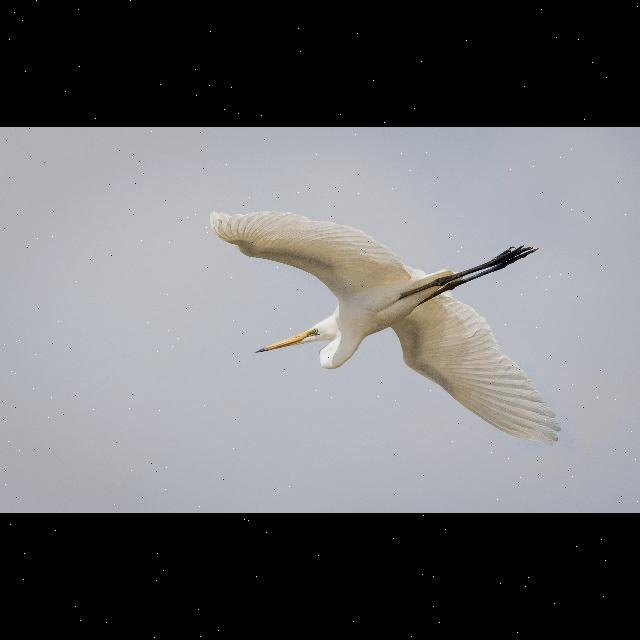egret: (205, 200, 555, 450)
